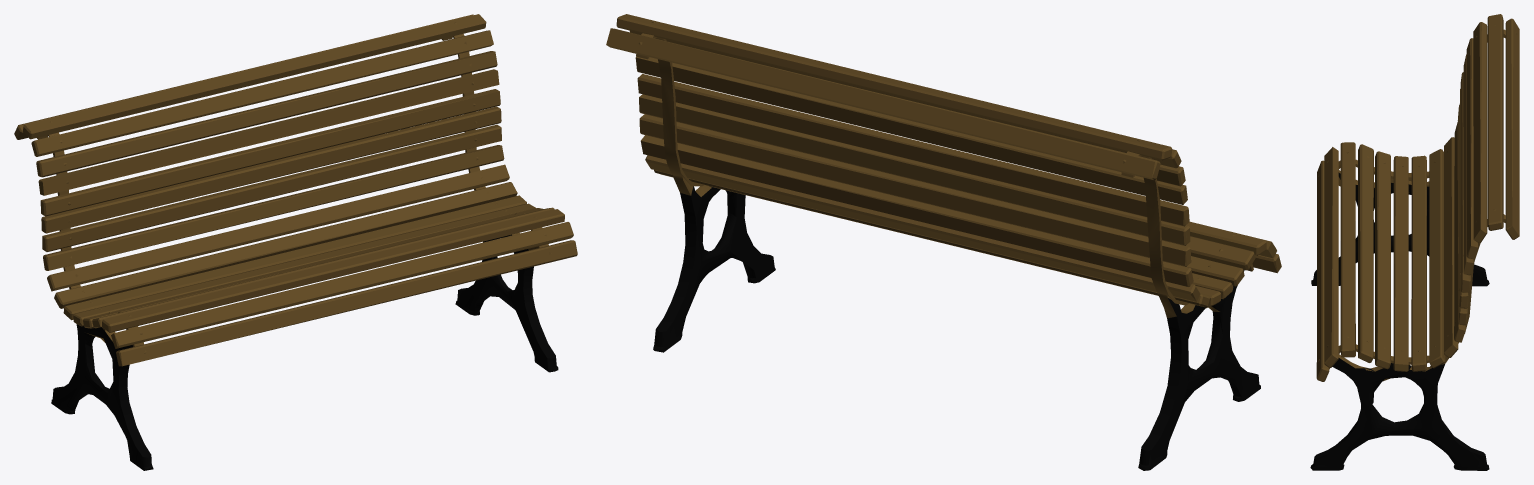
Rendered from panchina.fbx.
3 views of the same model, side by side, from view 1: azimuth 30°, elevation 25°; view 2: azimuth 150°, elevation 25°; view 3: azimuth 270°, elevation 25° (orthographic). The views are drawn at different scales.
Visible parts, largest first — view 1: METAL.001; view 2: METAL.001; view 3: METAL.001.
Part boxes in pixels (x1,y1,x2,y2): METAL.001: [14, 14, 577, 470]; METAL.001: [606, 14, 1281, 470]; METAL.001: [1310, 14, 1519, 470].
Size of the model in its own units: 79.73 by 46.33 by 33.82.
